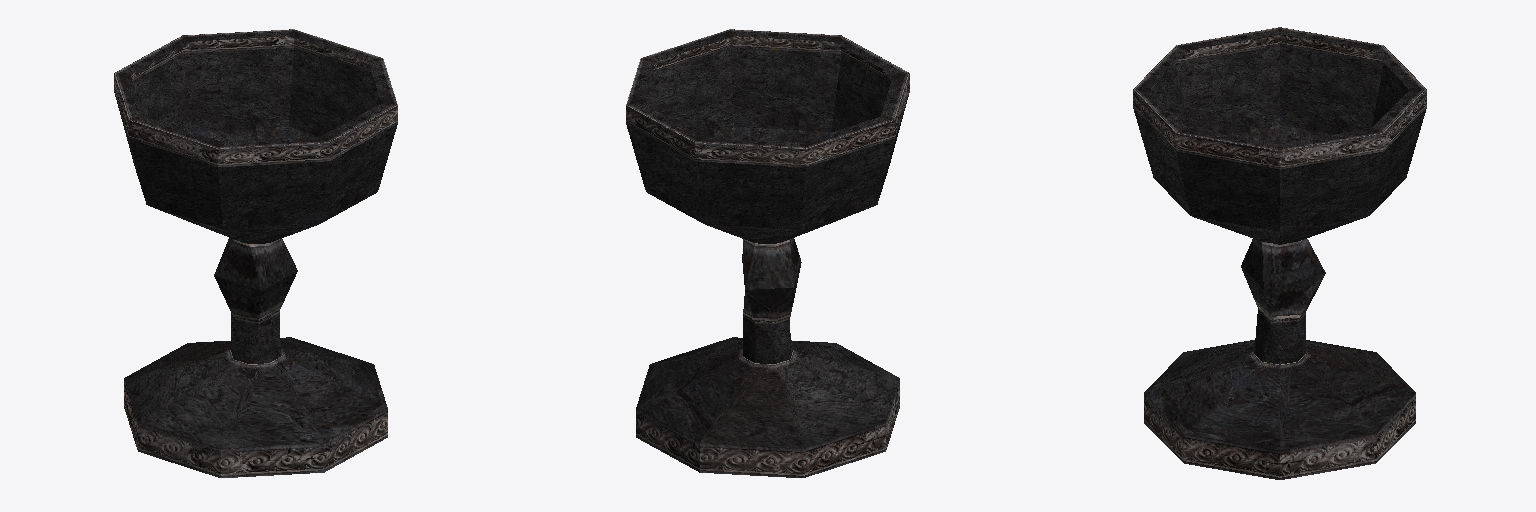
3 views of the same model, side by side, from view 1: azimuth 30°, elevation 25°; view 2: azimuth 150°, elevation 25°; view 3: azimuth 270°, elevation 25° (orthographic).
Parts seen in each view (by area): view 1: Default_Layer; view 2: Default_Layer; view 3: Default_Layer.
Boxes of the visible parts, <box> form: Default_Layer: <box>114,29,397,477</box>; Default_Layer: <box>626,29,909,477</box>; Default_Layer: <box>1133,27,1426,479</box>.
Bounding box in the file's own units: 1.52 × 1.9 × 1.52.
1 materials, 1 textured.